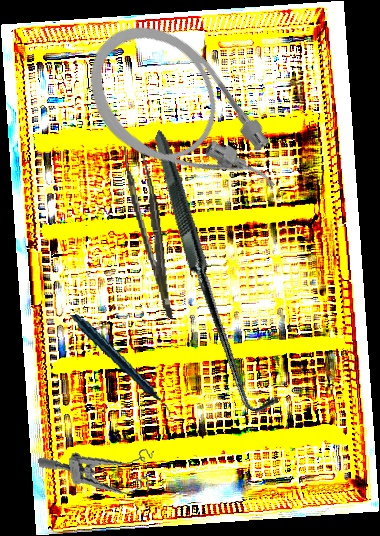Cannula: (63, 0, 303, 241)
Handpiece: (69, 302, 172, 430)
Hook Surgical: (74, 129, 355, 419)
Speculum: (37, 440, 161, 508)
Tissue Forceps: (123, 141, 173, 322)
